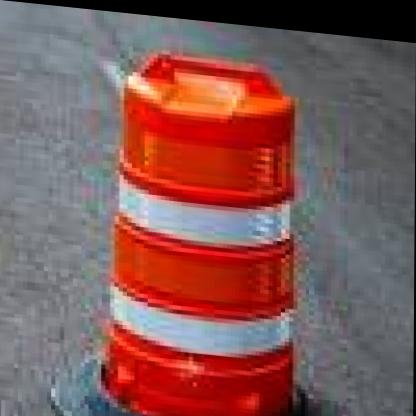obstacle: (78, 48, 304, 416)
